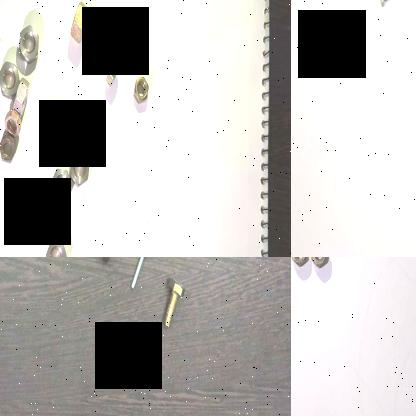Bolts: (161, 272, 185, 336), (127, 257, 148, 292), (373, 0, 412, 7)
NUTS: (66, 0, 90, 47), (68, 147, 91, 193), (18, 21, 42, 65), (48, 164, 70, 212), (8, 76, 32, 116), (1, 101, 24, 141), (0, 60, 19, 104), (132, 71, 150, 111), (102, 56, 122, 90), (62, 101, 81, 135), (44, 233, 68, 257), (44, 98, 60, 132), (0, 134, 15, 168), (308, 257, 328, 269), (291, 257, 308, 267)
